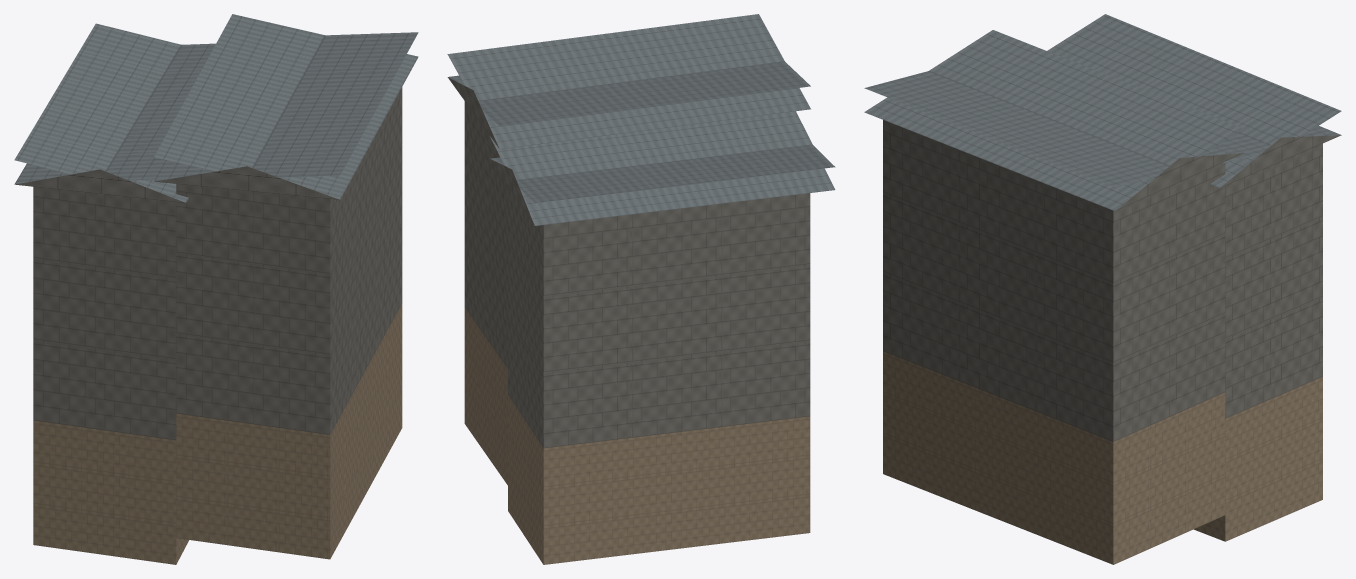
Rendered from bld_c17_29_380.gltf.
3 renders of one model, left to right at view 1: azimuth 30°, elevation 25°; view 2: azimuth 150°, elevation 25°; view 3: azimuth 270°, elevation 25°, orthographic. The views are drawn at different scales.
Parts seen in each view (by area): view 1: bld_c17_29_380; view 2: bld_c17_29_380; view 3: bld_c17_29_380.
Part boxes in pixels (left/top/right/bottom): bld_c17_29_380: left=14, top=14, right=418, bottom=564; bld_c17_29_380: left=447, top=14, right=835, bottom=564; bld_c17_29_380: left=864, top=14, right=1341, bottom=564.
Size of the model in its own units: 17.54 by 17.1 by 17.94.
4 materials, 4 textured.
